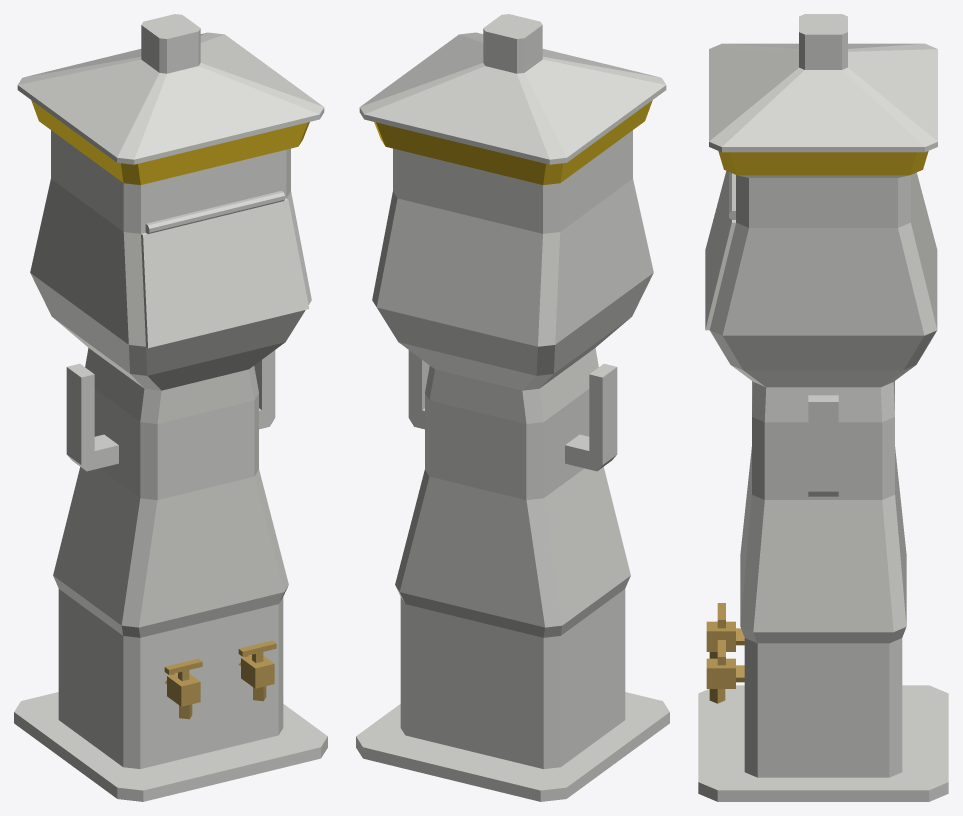
3 renders of one model, left to right at view 1: azimuth 30°, elevation 25°; view 2: azimuth 150°, elevation 25°; view 3: azimuth 270°, elevation 25°, orthographic. The views are drawn at different scales.
Visible parts, largest first — view 1: Continuous_tapered_service_body, Overhanging_lantern_roof, Closed_sloped_protective_door, Broad_mounting_foot, Amber_lantern_band, Left_open_hose_bracket, Raised_top_finial, Top_protective_door_hinge, Right_open_hose_bracket, Port_complete_valve_body, Starboard_complete_valve_body; view 2: Continuous_tapered_service_body, Overhanging_lantern_roof, Broad_mounting_foot, Amber_lantern_band, Left_open_hose_bracket, Raised_top_finial, Right_open_hose_bracket; view 3: Continuous_tapered_service_body, Overhanging_lantern_roof, Broad_mounting_foot, Amber_lantern_band, Right_open_hose_bracket, Raised_top_finial, Closed_sloped_protective_door, Starboard_complete_valve_body, Port_complete_valve_body, Lantern_lower_lip.
Part boxes in pixels (box(x1,y1,x2,y2)): Continuous_tapered_service_body: box(30, 130, 311, 769); Overhanging_lantern_roof: box(17, 32, 324, 164); Closed_sloped_protective_door: box(141, 198, 309, 348); Broad_mounting_foot: box(14, 692, 327, 801); Amber_lantern_band: box(31, 100, 309, 184); Left_open_hose_bracket: box(66, 363, 118, 471); Raised_top_finial: box(141, 14, 200, 73); Top_protective_door_hinge: box(145, 190, 284, 233); Right_open_hose_bracket: box(254, 350, 275, 429); Port_complete_valve_body: box(167, 673, 200, 706); Starboard_complete_valve_body: box(241, 655, 274, 688); Continuous_tapered_service_body: box(372, 130, 653, 769); Overhanging_lantern_roof: box(359, 32, 666, 164); Broad_mounting_foot: box(356, 692, 669, 801); Amber_lantern_band: box(374, 100, 652, 184); Left_open_hose_bracket: box(565, 363, 617, 471); Raised_top_finial: box(483, 14, 542, 73); Right_open_hose_bracket: box(408, 350, 429, 429); Continuous_tapered_service_body: box(709, 172, 937, 777); Overhanging_lantern_roof: box(709, 43, 937, 152); Broad_mounting_foot: box(698, 685, 948, 801); Amber_lantern_band: box(718, 151, 928, 175); Right_open_hose_bracket: box(808, 395, 838, 496); Raised_top_finial: box(799, 14, 847, 69); Closed_sloped_protective_door: box(705, 171, 735, 330); Starboard_complete_valve_body: box(706, 658, 735, 688); Port_complete_valve_body: box(706, 621, 735, 651); Lantern_lower_lip: box(738, 175, 908, 177).
Bounding box in the file's own units: 0.3472 × 1.12 × 0.3492.
